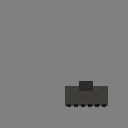armoured_vehicle: (65, 86, 108, 106)
